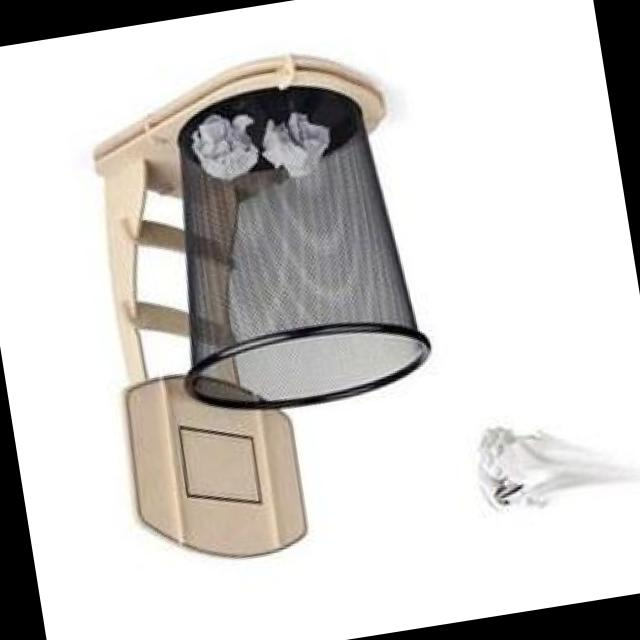crumpled_paper: (256, 107, 344, 183), (191, 108, 264, 186)
dustbin: (137, 70, 442, 430)
